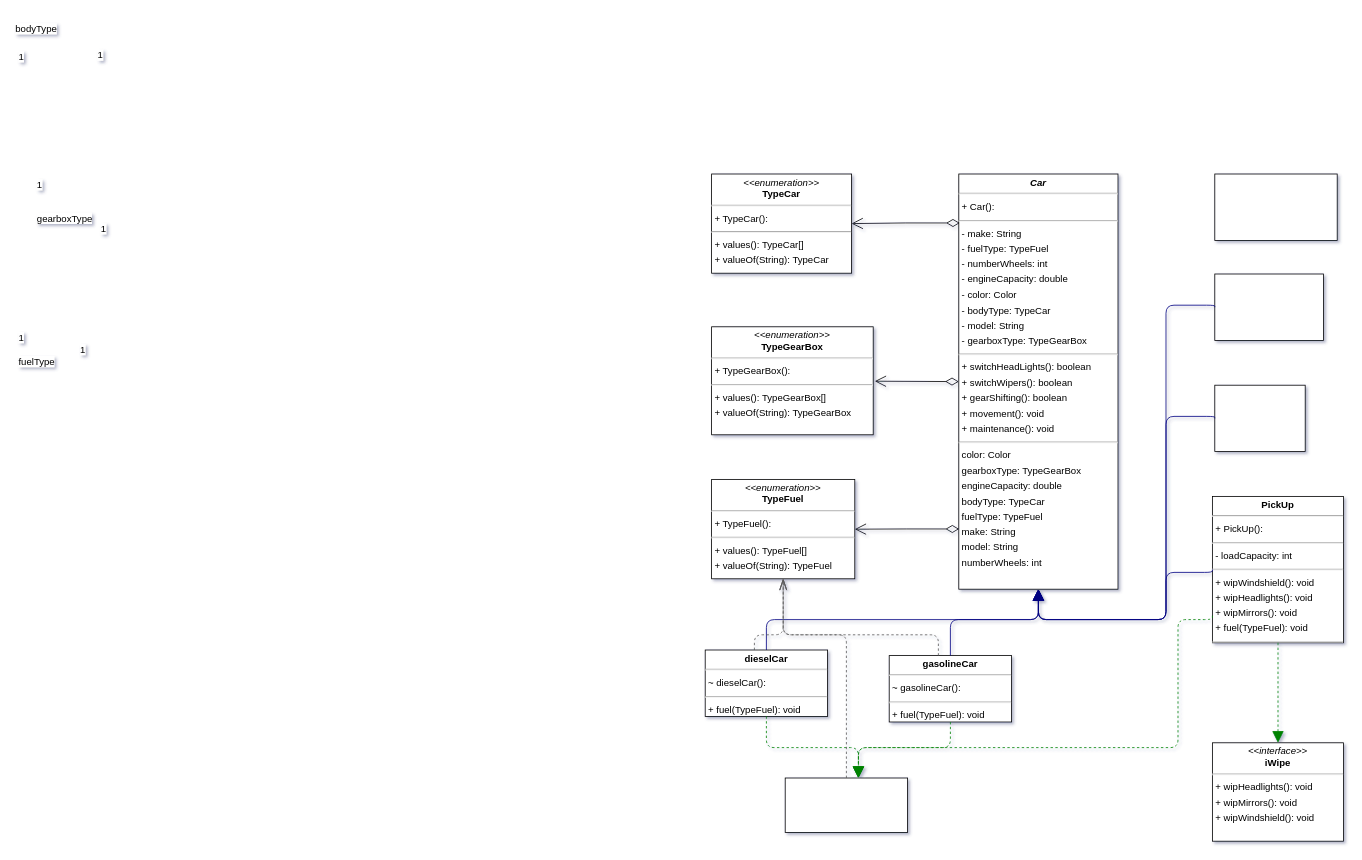
The diagram is 1362 pixels wide and 860 high, and some of its shapes have lost their labels. The shapes that lost their labels are listed below. From the top down, each one's centre as x and y in pixels, then its label:
At point 1275,206: "Main + Main(): + main(String[]): void".
At point 1269,306: "SweepCar + SweepCar(): + sweeping(): void".
At point 1259,418: "FutureCar + FutureCar(): - fly(): void".
At point 846,804: "<<interface>> iRefueling + fuel(TypeFuel): void".
